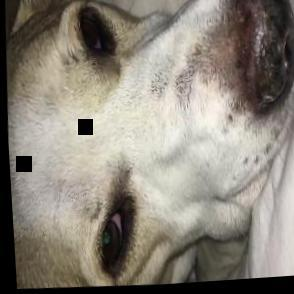keratosis: (229, 0, 292, 112)
